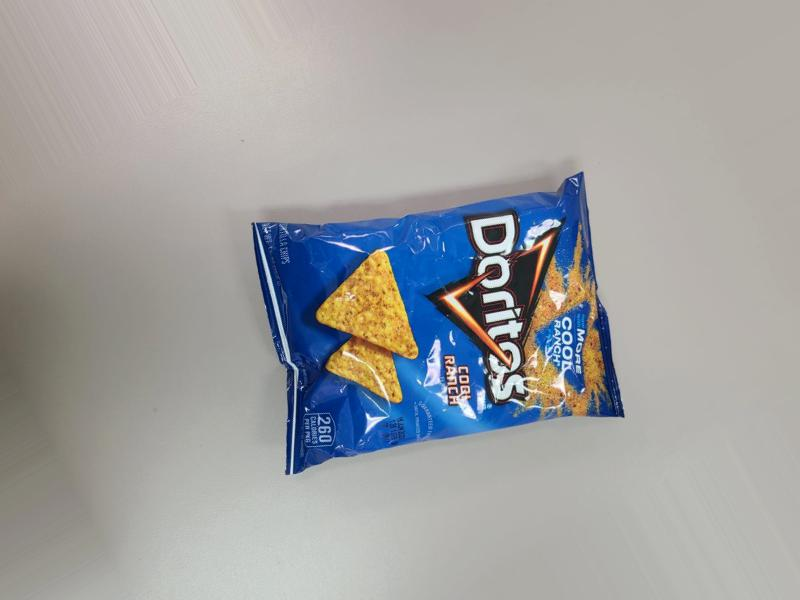doritos: (217, 166, 607, 515)
